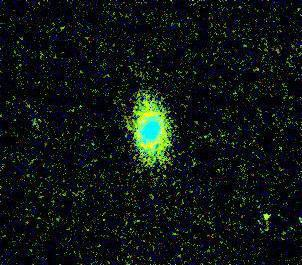star: (251, 204, 281, 234)
